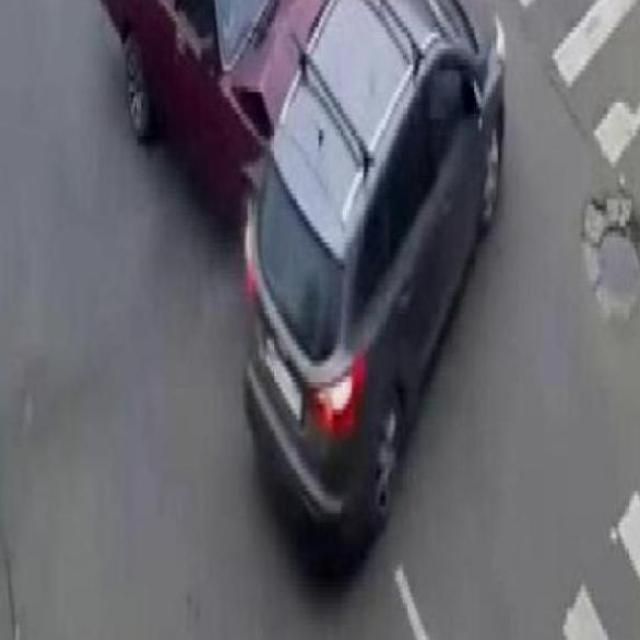accident: (94, 0, 511, 560)
